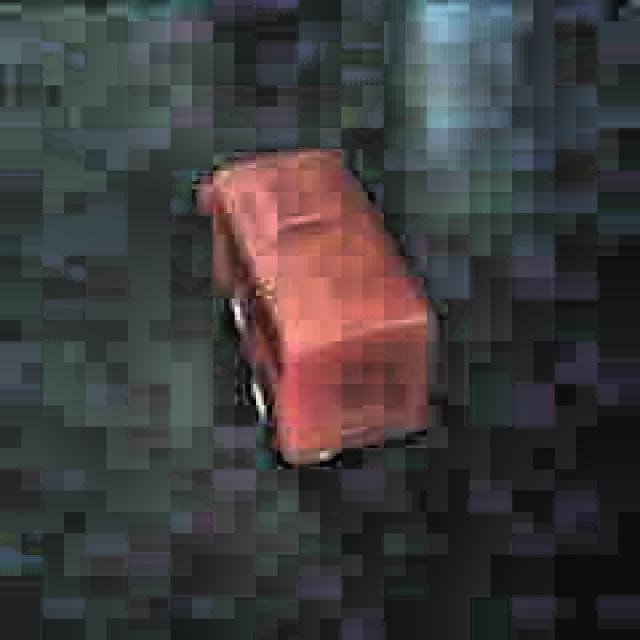bus: (193, 146, 436, 473)
